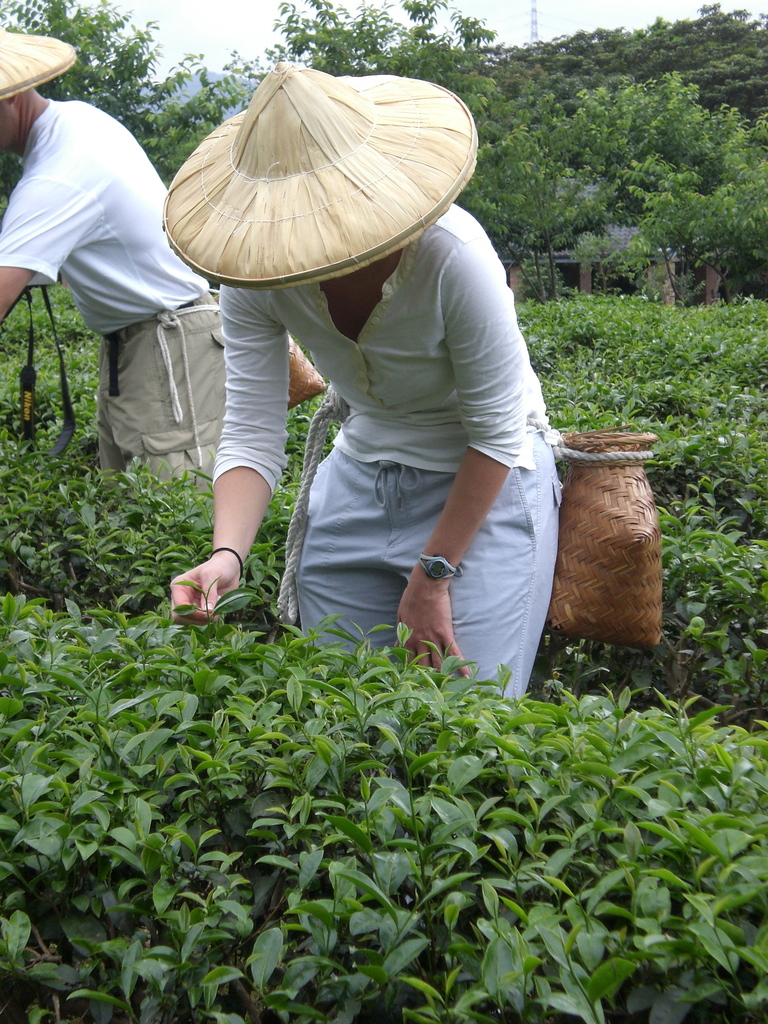Person: (162, 56, 563, 703), (0, 21, 224, 494)
